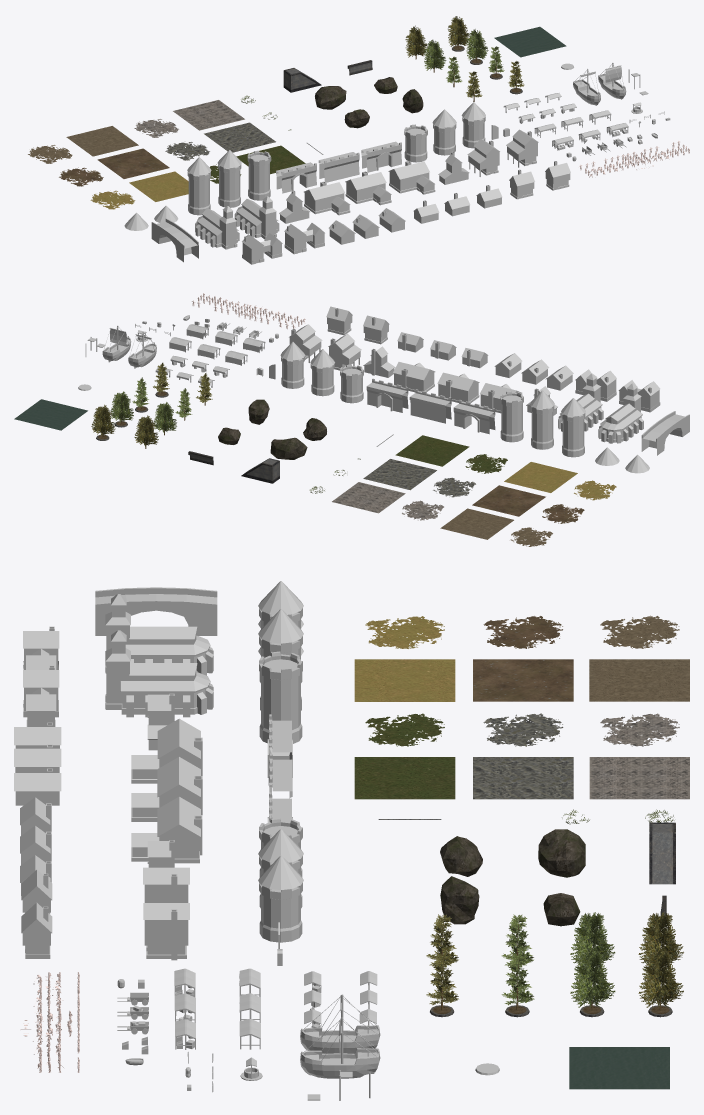
Rendered from Medieval City Low Poly PBR Pack.fbx.
3 views of the same model, one above another, from view 1: azimuth 30°, elevation 25°; view 2: azimuth 150°, elevation 25°; view 3: azimuth 270°, elevation 25° (orthographic). The views are drawn at different scales.
Parts seen in each view (by area): view 1: desirefx.me_028, desirefx.me_029, desirefx.me_081, desirefx.me_086, desirefx.me_087, desirefx.me_094, desirefx.me_082, desirefx.me_022, desirefx.me_001, desirefx.me_091, desirefx.me_003, desirefx.me_002 (+38 smaller); view 2: desirefx.me_028, desirefx.me_081, desirefx.me_087, desirefx.me_093, desirefx.me_086, desirefx.me_094, desirefx.me_082, desirefx.me_091, desirefx.me_023, desirefx.me_022, desirefx.me_033, desirefx.me_020 (+39 smaller); view 3: desirefx.me_029, desirefx.me_091, desirefx.me_093, desirefx.me_081, desirefx.me_082, desirefx.me_086, desirefx.me_087, desirefx.me_094, desirefx.me_028, desirefx.me_033, desirefx.me_025, desirefx.me_020 (+42 smaller).
Boxes of the visible parts, <box> form: desirefx.me_028: <box>195,206,239,249</box>; desirefx.me_029: <box>234,196,279,238</box>; desirefx.me_081: <box>494,26,566,57</box>; desirefx.me_086: <box>66,126,138,156</box>; desirefx.me_087: <box>97,148,169,178</box>; desirefx.me_094: <box>173,100,244,130</box>; desirefx.me_082: <box>204,122,275,152</box>; desirefx.me_022: <box>217,150,241,207</box>; desirefx.me_001: <box>304,181,350,215</box>; desirefx.me_091: <box>129,171,188,201</box>; desirefx.me_003: <box>388,161,435,194</box>; desirefx.me_002: <box>345,171,391,205</box>; desirefx.me_028: <box>598,383,643,443</box>; desirefx.me_081: <box>14,399,87,430</box>; desirefx.me_087: <box>472,485,545,516</box>; desirefx.me_093: <box>395,435,469,466</box>; desirefx.me_086: <box>440,508,513,539</box>; desirefx.me_094: <box>332,482,405,513</box>; desirefx.me_082: <box>363,459,436,490</box>; desirefx.me_091: <box>504,462,577,492</box>; desirefx.me_023: <box>561,398,585,457</box>; desirefx.me_022: <box>530,390,554,449</box>; desirefx.me_033: <box>641,411,689,455</box>; desirefx.me_020: <box>500,391,523,442</box>; desirefx.me_029: <box>105,630,213,717</box>; desirefx.me_091: <box>354,659,455,701</box>; desirefx.me_093: <box>354,757,455,799</box>; desirefx.me_081: <box>569,1047,669,1089</box>; desirefx.me_082: <box>473,757,573,799</box>; desirefx.me_086: <box>589,659,689,701</box>; desirefx.me_087: <box>473,659,573,701</box>; desirefx.me_094: <box>589,757,689,799</box>; desirefx.me_028: <box>105,594,213,675</box>; desirefx.me_033: <box>95,587,217,635</box>; desirefx.me_025: <box>258,855,303,942</box>; desirefx.me_020: <box>259,651,302,743</box>.
Size of the model in its own units: 18447 by 1788 by 10763.
